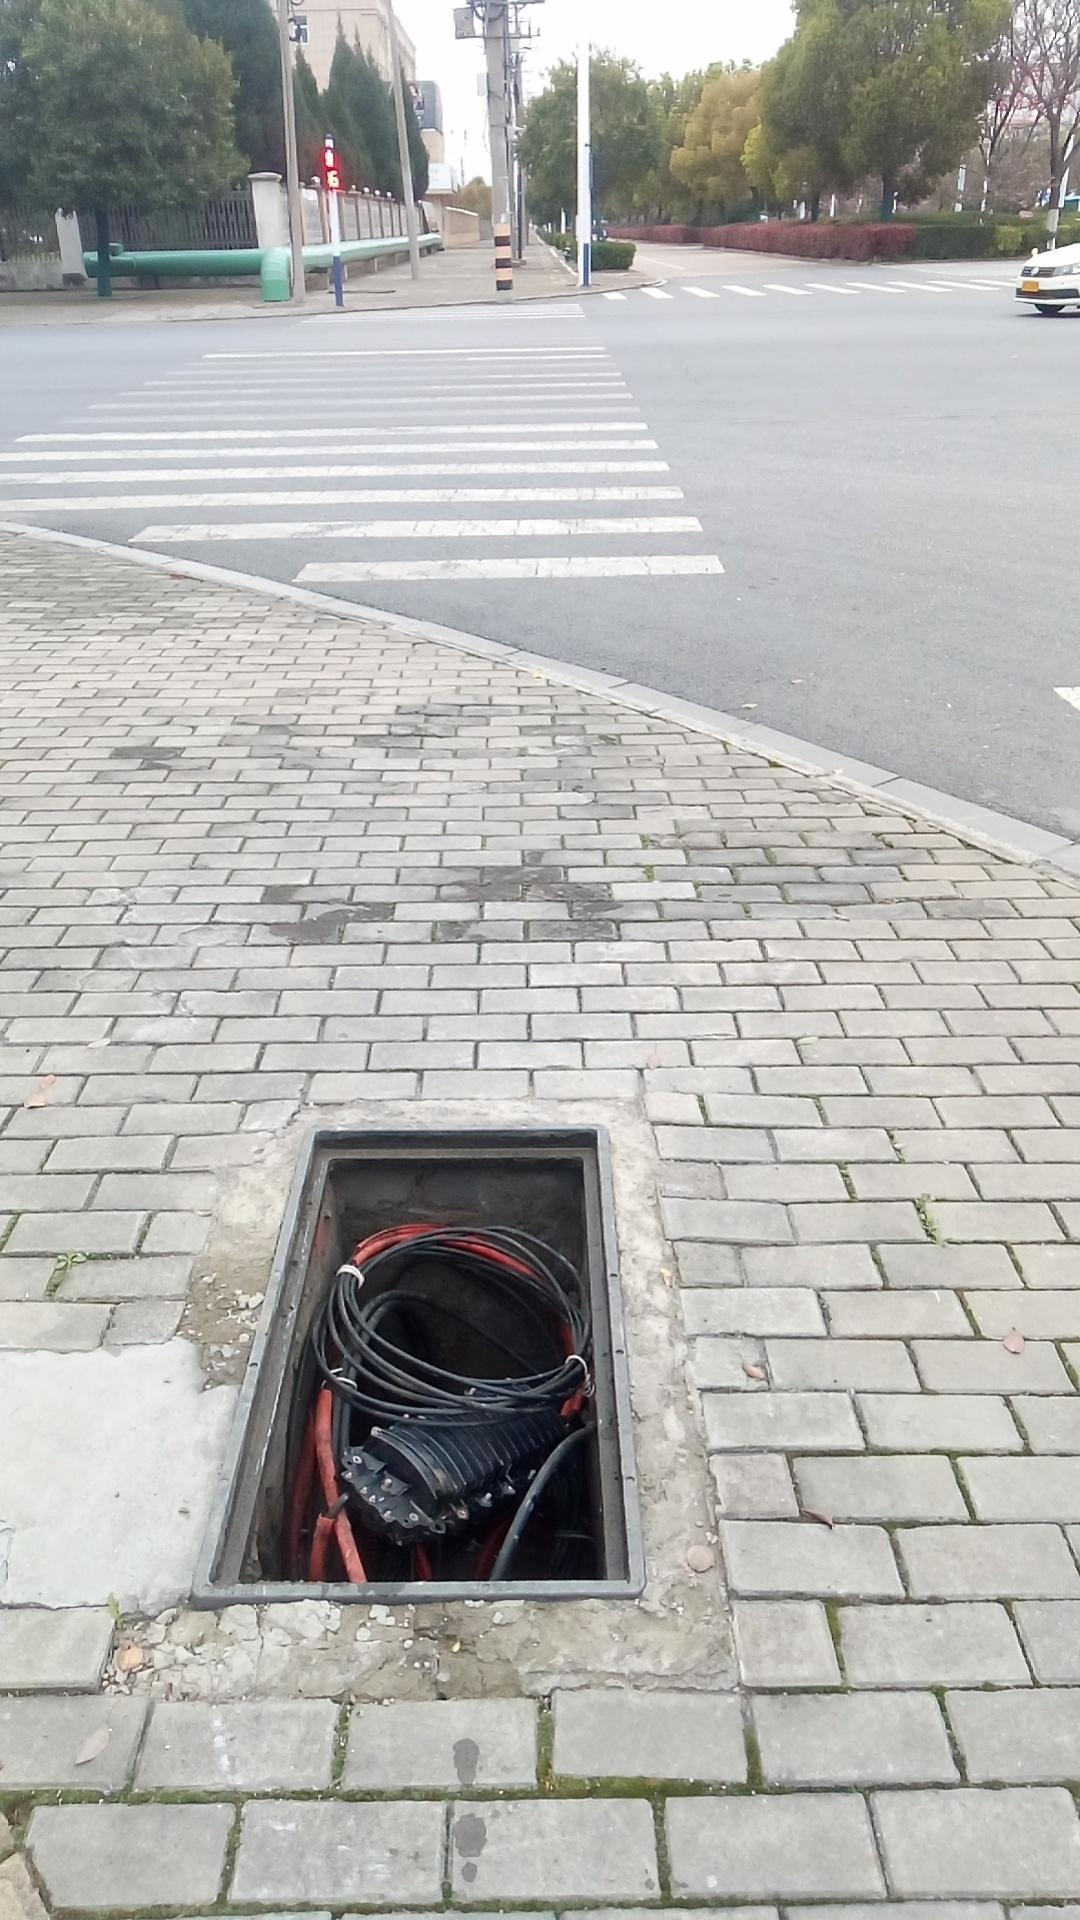wellcover: (208, 1108, 697, 1621)
